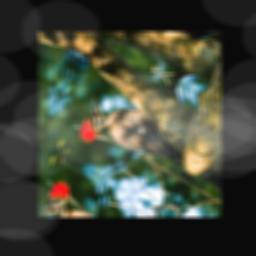Woodpecker: (74, 81, 196, 192)
